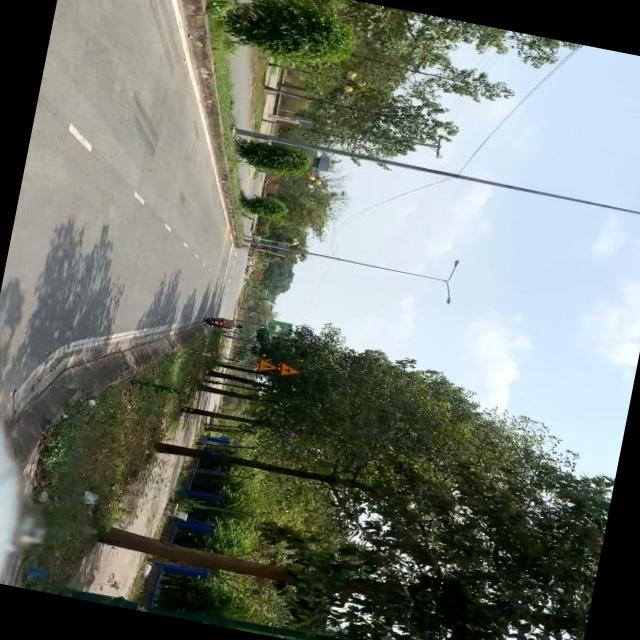W-205d: (276, 362, 300, 378)
W-224: (256, 358, 278, 375)
